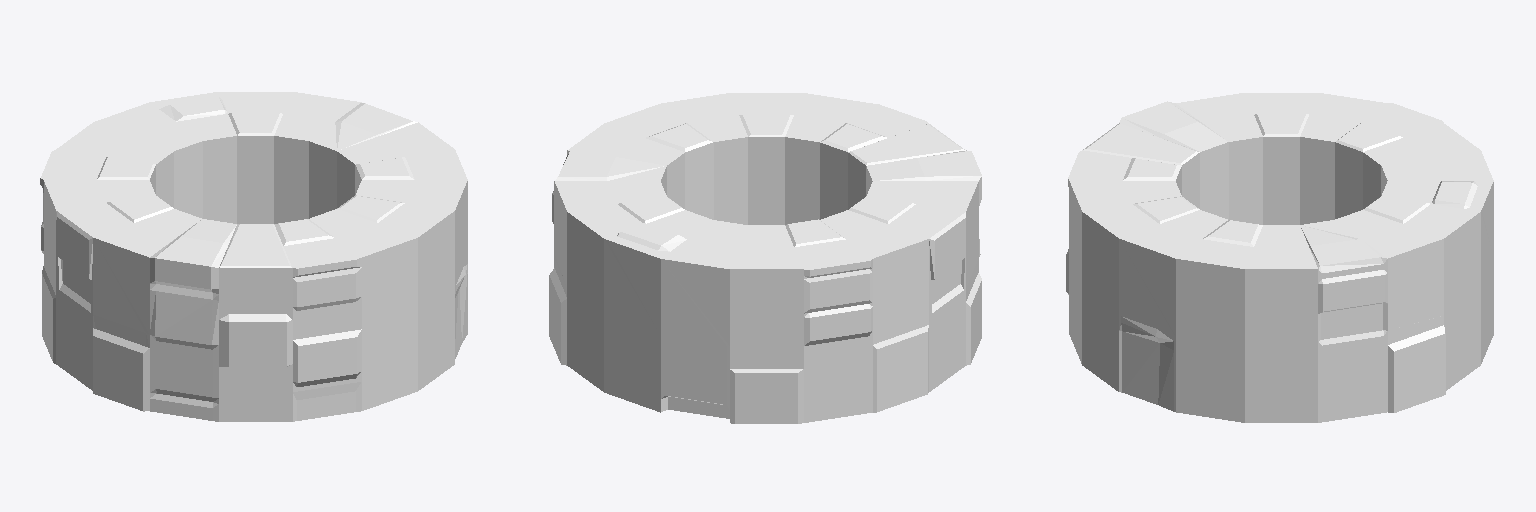
The model's file is Well.obj.
3 views of the same model, side by side, from view 1: azimuth 30°, elevation 25°; view 2: azimuth 150°, elevation 25°; view 3: azimuth 270°, elevation 25° (orthographic).
Parts seen in each view (by area): view 1: Tube001; view 2: Tube001; view 3: Tube001.
Part boxes in pixels (x1,y1,x2,y2): Tube001: (40,92,467,421); Tube001: (549,93,981,423); Tube001: (1066,93,1493,422).
Size of the model in its own units: 0.9949 by 0.4083 by 1.01.